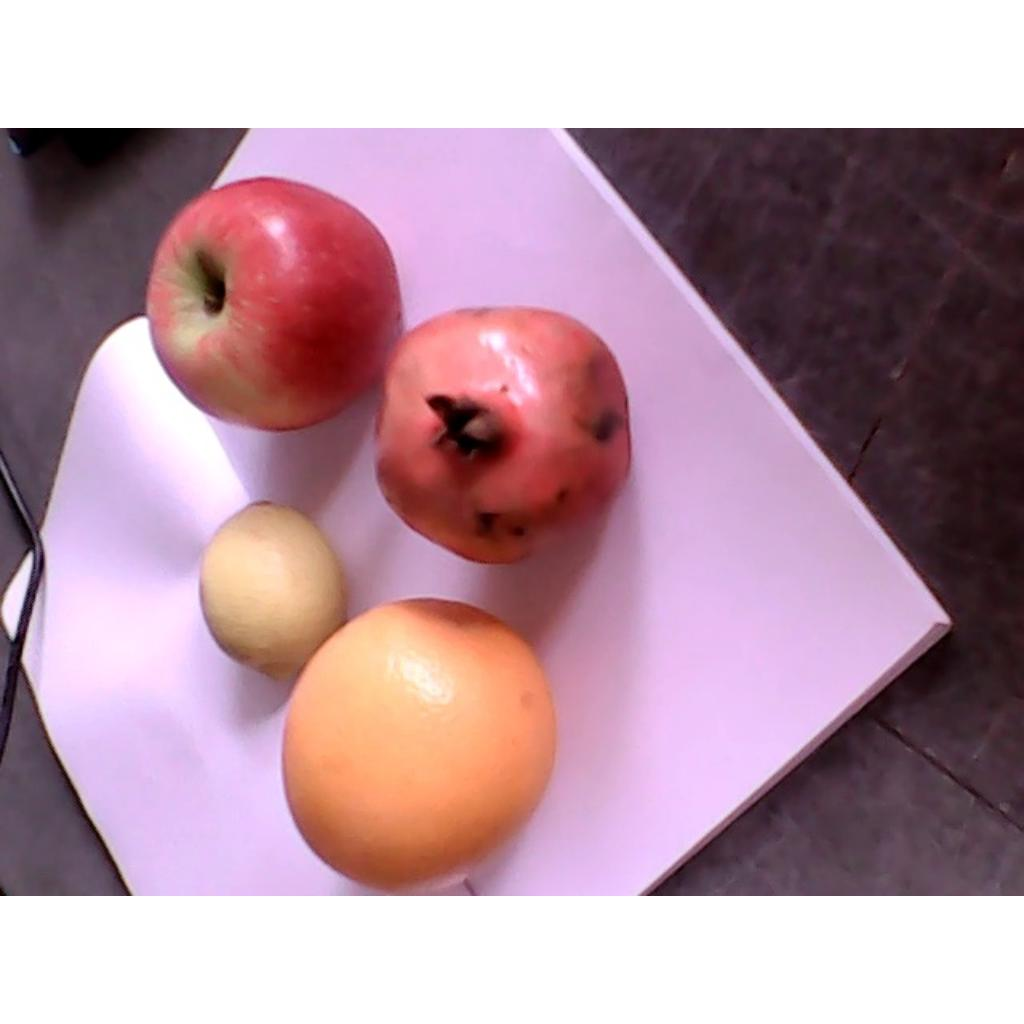apple: (144, 176, 402, 432)
lemon: (199, 498, 343, 685)
orange: (282, 596, 559, 894)
pomegranate: (373, 305, 632, 565)
